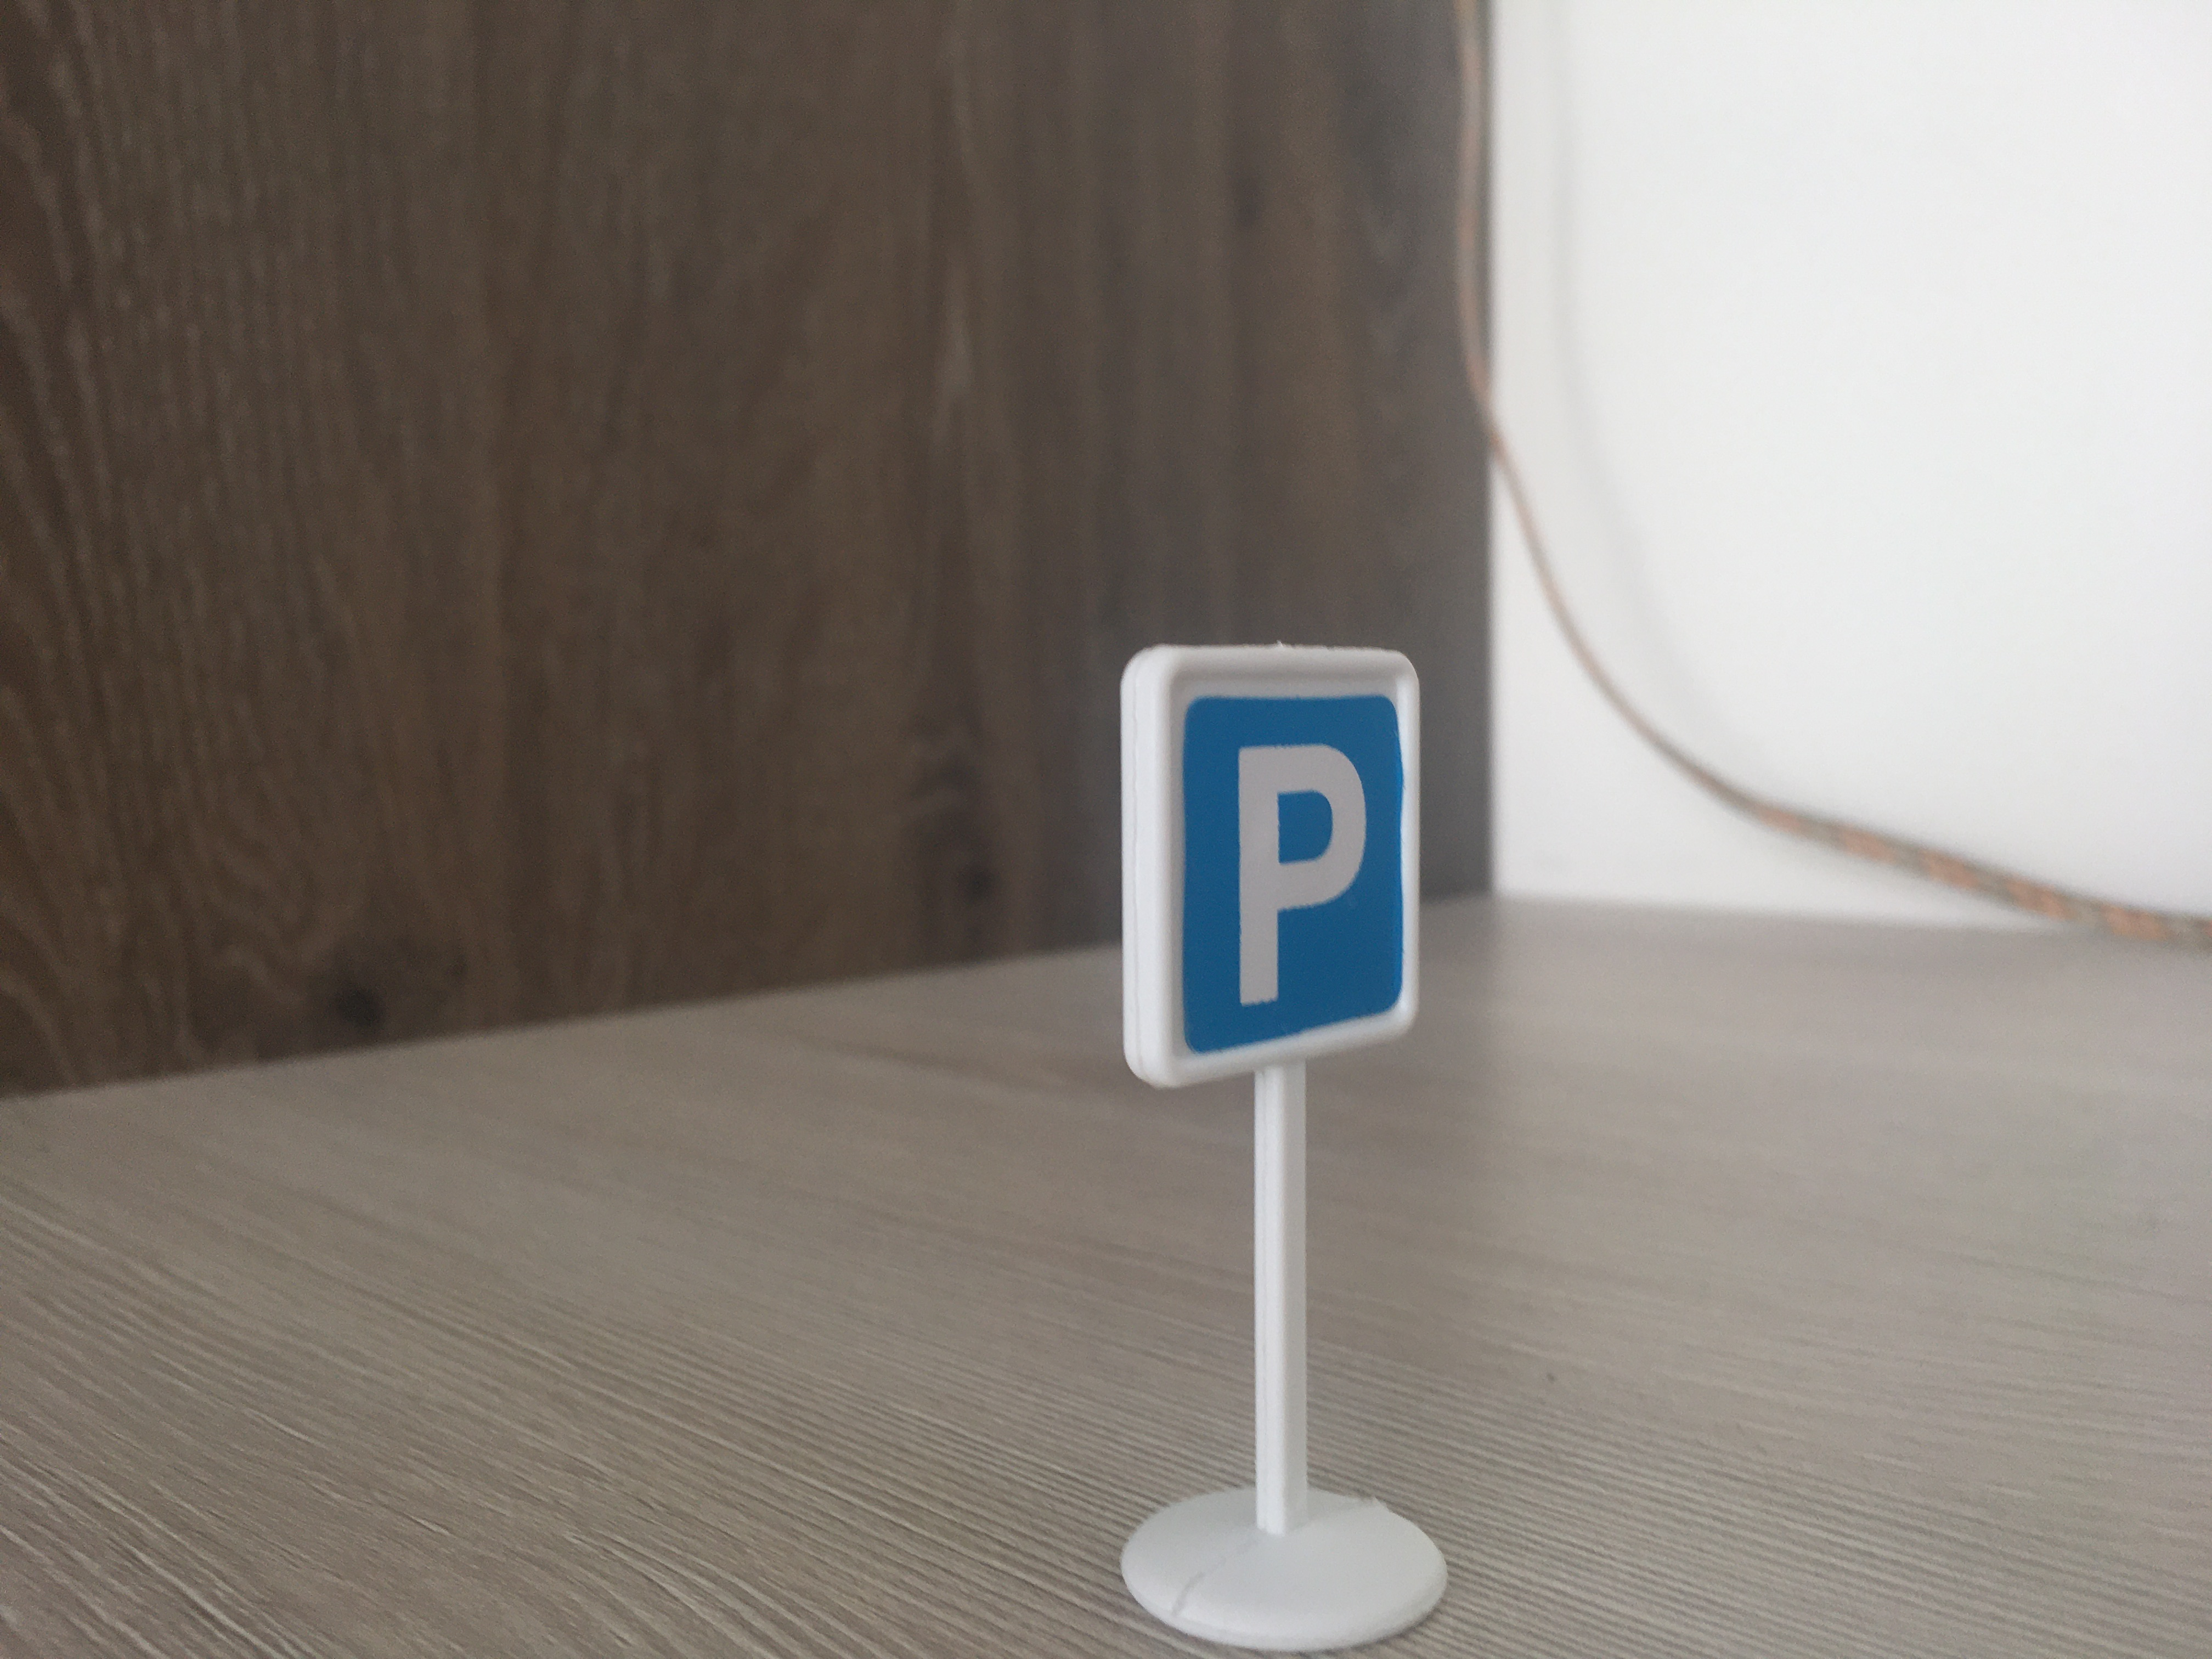parking: (1122, 645, 1421, 1091)
